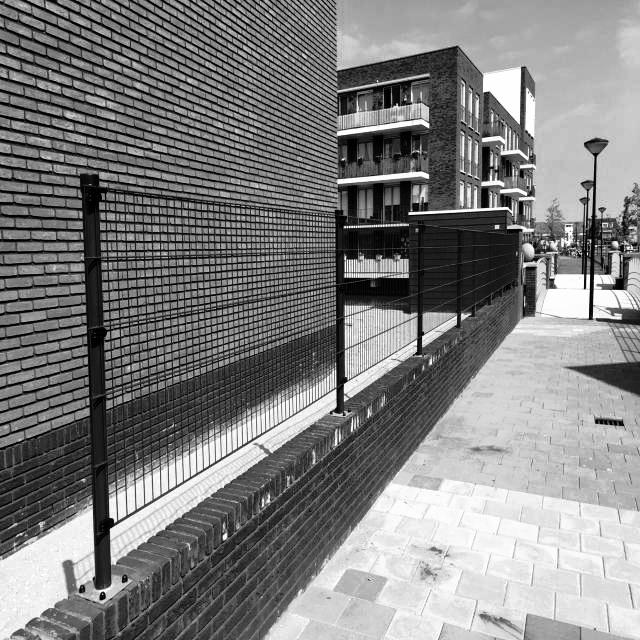fences: (82, 190, 310, 476), (329, 217, 525, 376)
